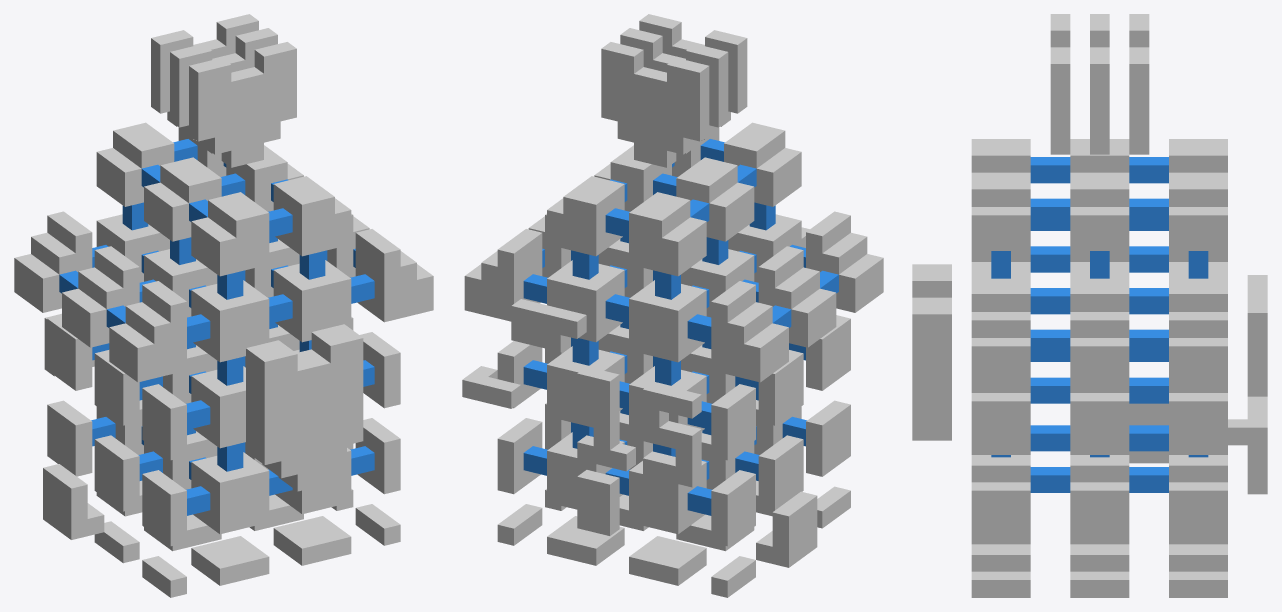
The model's file is HOME#15_GLB.glb.
The picture shows the model from 3 angles, left to right: view 1: azimuth 30°, elevation 25°; view 2: azimuth 150°, elevation 25°; view 3: azimuth 270°, elevation 25°; orthographic projection. The views are drawn at different scales.
Parts seen in each view (by area): view 1: Node-Local; view 2: Node-Local; view 3: Node-Local.
Boxes of the visible parts, x1,y1,x2,y2 form: Node-Local: [14, 14, 433, 597]; Node-Local: [462, 14, 883, 597]; Node-Local: [912, 14, 1267, 597].
Size of the model in its own units: 18 by 28 by 18.
Materials: 1 (1 with a texture image).
